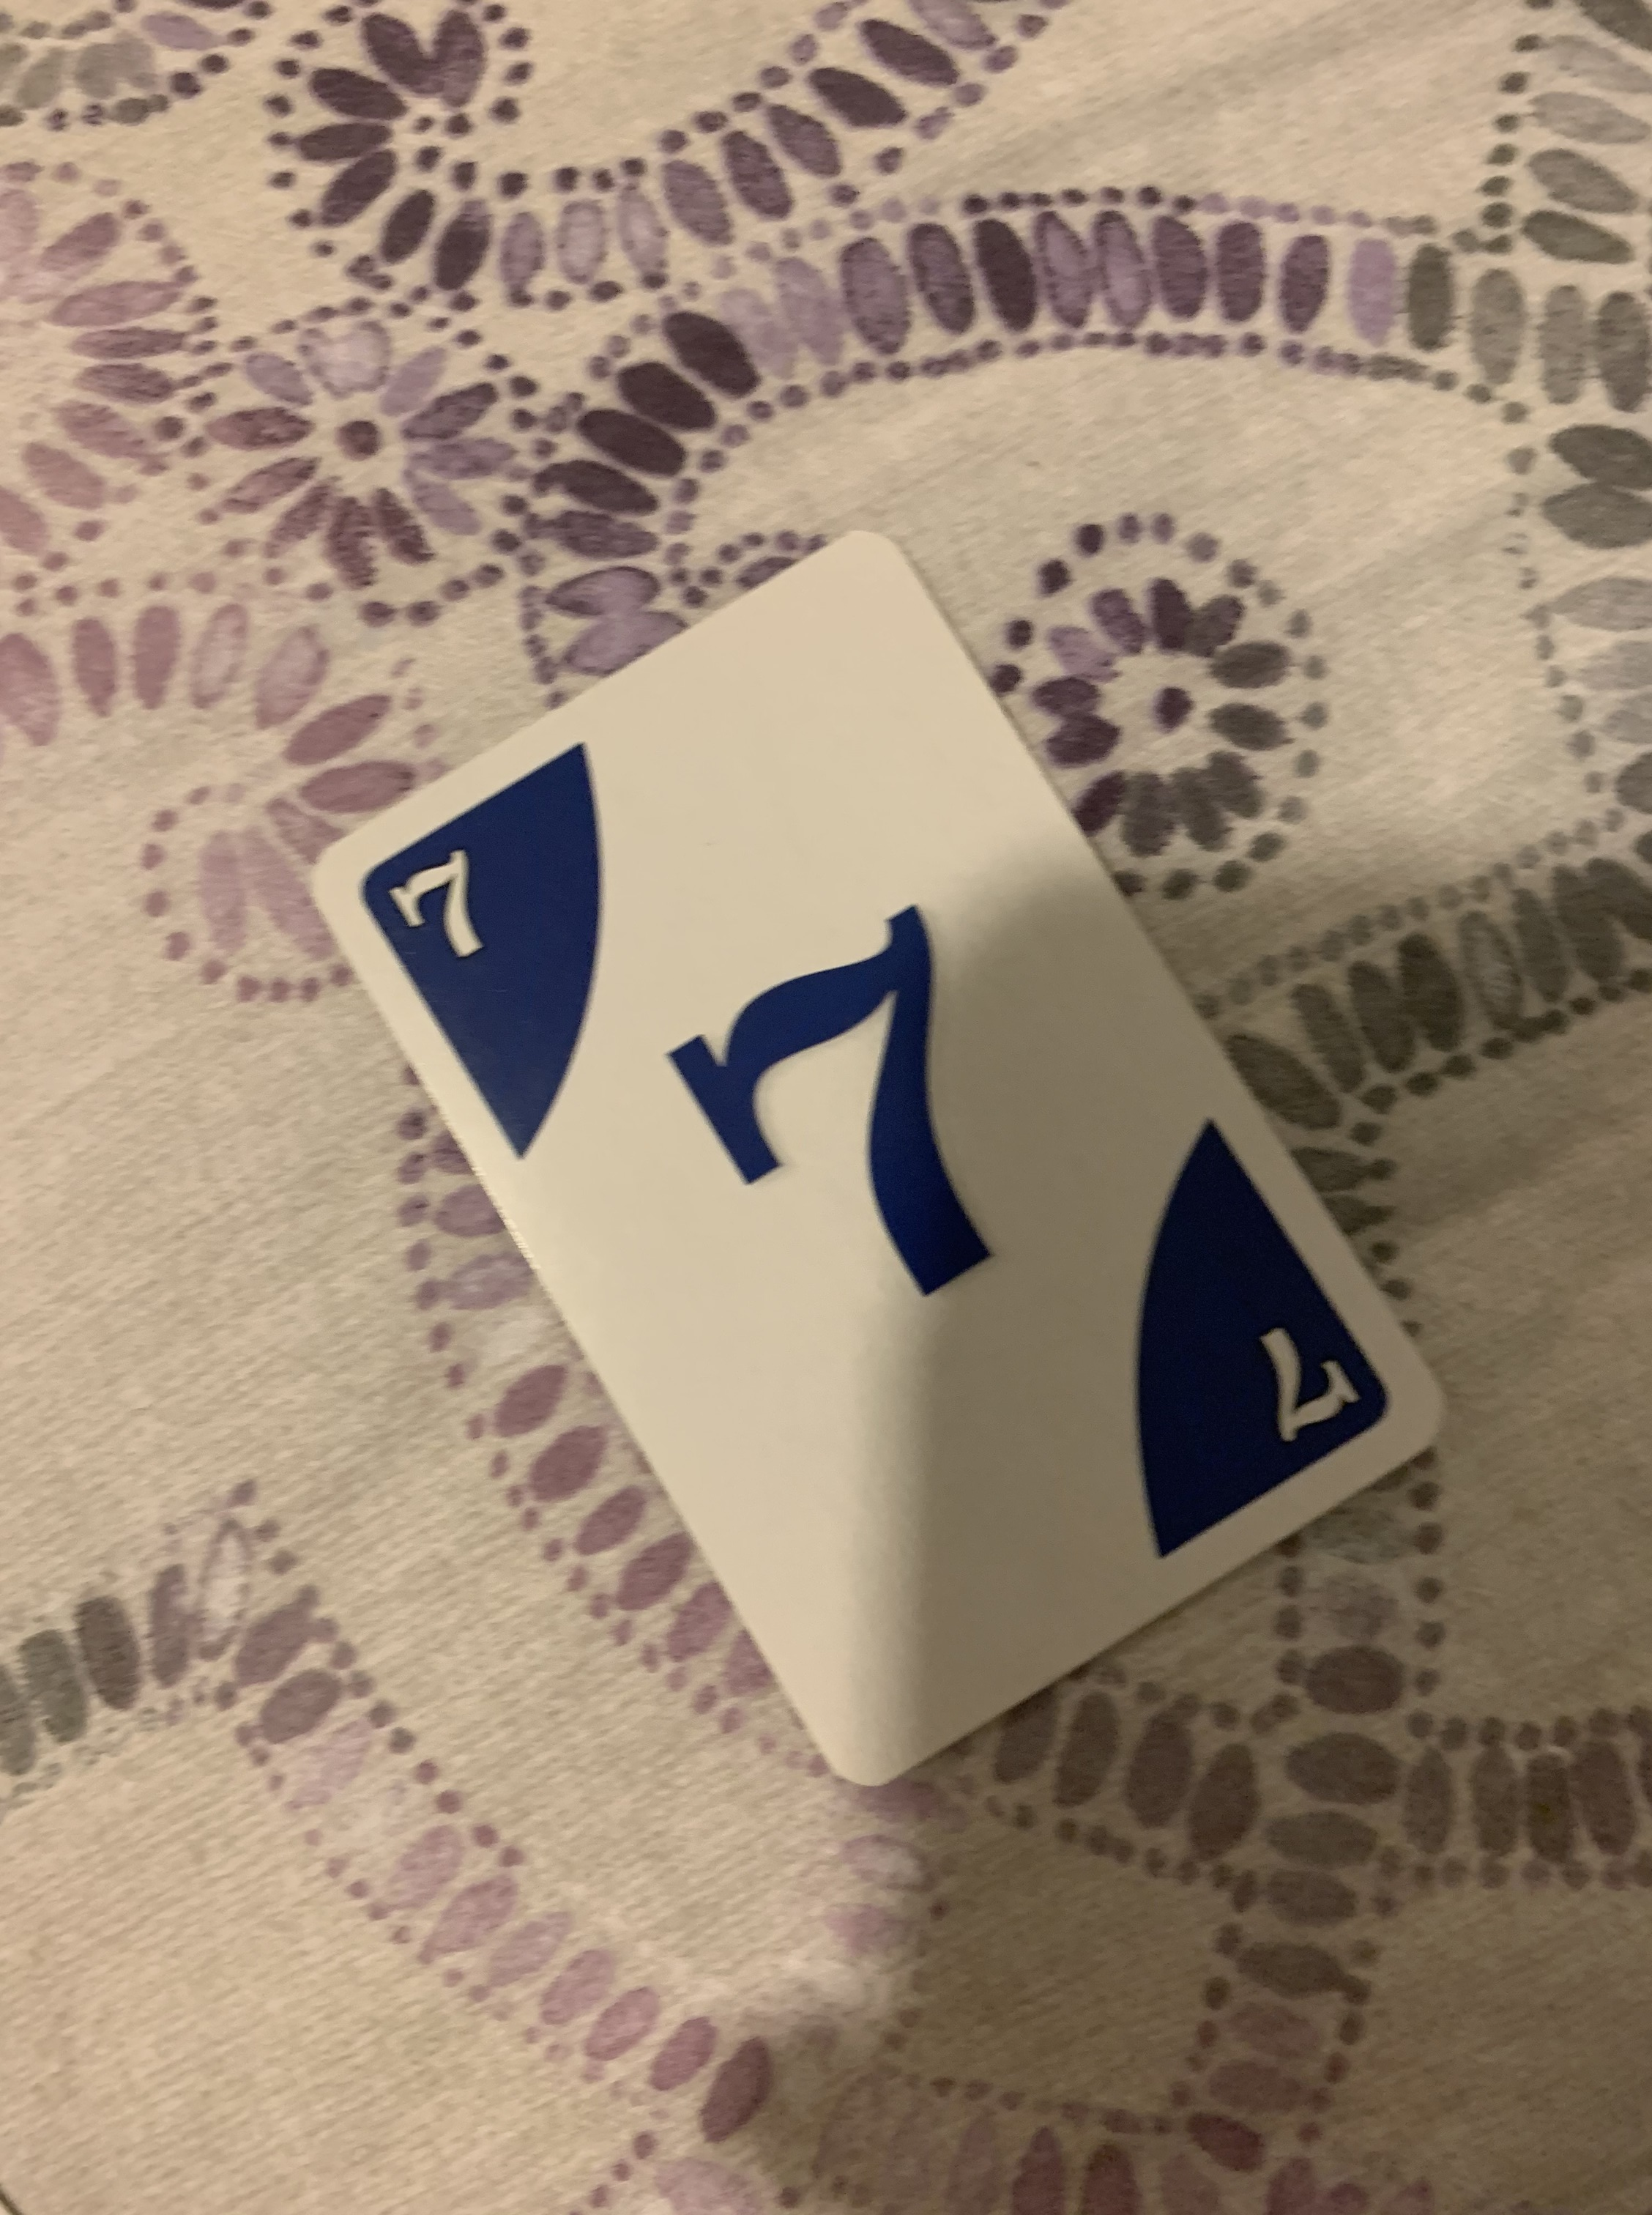seven: (293, 519, 1451, 1793)
